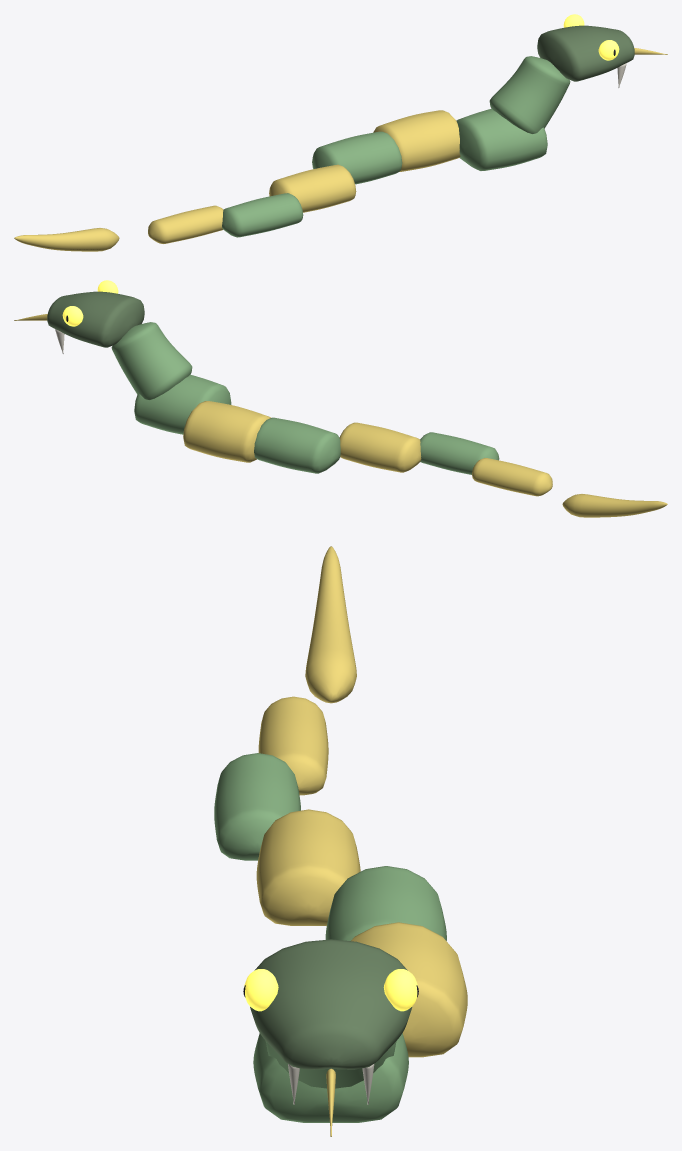
The model's file is serpent.glb.
The picture shows the model from 3 angles, top to bottom: view 1: azimuth 30°, elevation 25°; view 2: azimuth 150°, elevation 25°; view 3: azimuth 270°, elevation 25°; orthographic projection. The views are drawn at different scales.
Visible parts, largest first — view 1: Coil_0, Serpent_Neck, Serpent_Head, Coil_1, Coil_2, Coil_3, Coil_4, Coil_5, Serpent_RattleTip; view 2: Serpent_Neck, Coil_1, Serpent_Head, Coil_2, Coil_3, Coil_0, Coil_4, Coil_5, Serpent_RattleTip; view 3: Serpent_Head, Coil_3, Coil_1, Coil_0, Coil_4, Coil_2, Serpent_RattleTip, Coil_5, Serpent_Neck, Eye_L, Eye_R.
Part boxes in pixels (x1,y1,x2,y2): Coil_0: (456, 108, 547, 170); Serpent_Neck: (489, 56, 570, 133); Serpent_Head: (537, 25, 634, 81); Coil_1: (373, 110, 460, 171); Coil_2: (312, 131, 402, 184); Coil_3: (269, 164, 356, 212); Coil_4: (222, 193, 303, 237); Coil_5: (148, 205, 223, 243); Serpent_RattleTip: (14, 228, 119, 251); Serpent_Neck: (111, 322, 192, 399); Coil_1: (183, 401, 270, 462); Serpent_Head: (47, 291, 144, 347); Coil_2: (254, 417, 340, 473); Coil_3: (339, 422, 421, 472); Coil_0: (134, 374, 231, 434); Coil_4: (420, 432, 499, 474); Coil_5: (472, 458, 552, 496); Serpent_RattleTip: (562, 494, 667, 517); Serpent_Head: (250, 939, 412, 1069); Coil_3: (256, 809, 360, 925); Coil_1: (351, 922, 467, 1057); Coil_0: (253, 1033, 408, 1122); Coil_4: (214, 753, 300, 860); Coil_2: (325, 866, 446, 940); Serpent_RattleTip: (305, 546, 356, 703); Coil_5: (258, 696, 328, 795); Serpent_Neck: (266, 1041, 396, 1088); Eye_L: (383, 969, 417, 1011); Eye_R: (244, 969, 278, 1011).
Size of the model in its own units: 3.68 by 0.5768 by 0.6175.
